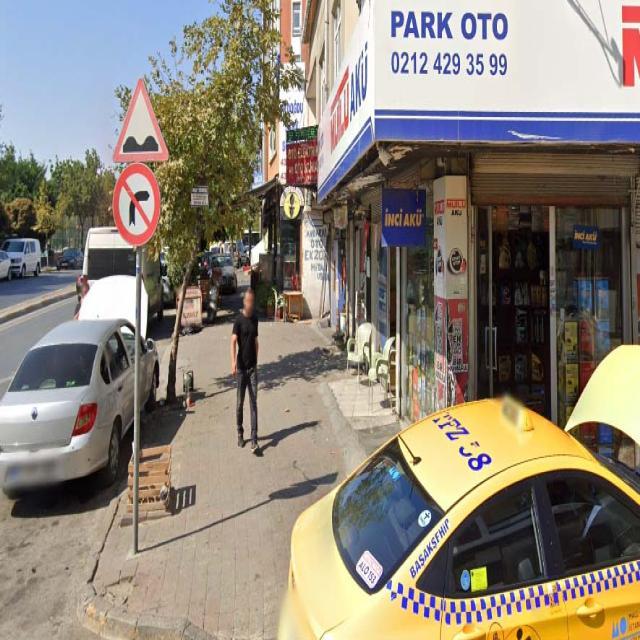sagadonulmez: (113, 162, 160, 243)
